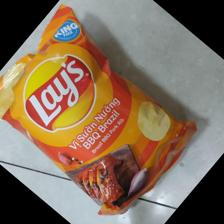Lays: (1, 4, 200, 220)
